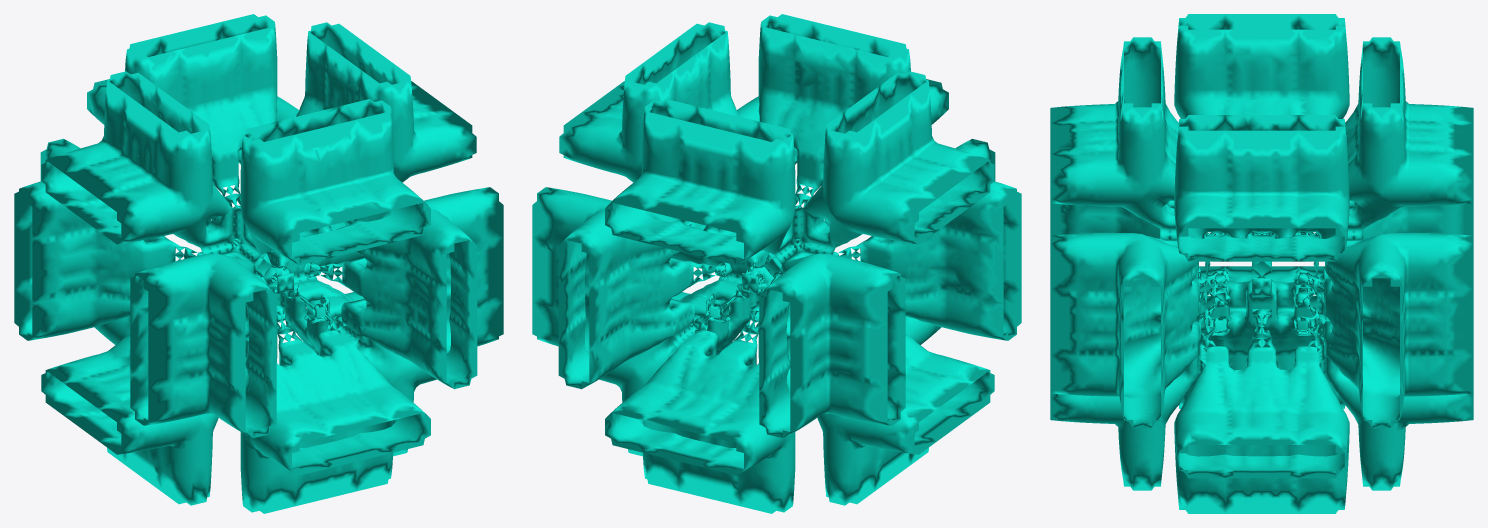
Rendered from cuboctahedron_qubit.glb.
3 renders of one model, left to right at view 1: azimuth 30°, elevation 25°; view 2: azimuth 150°, elevation 25°; view 3: azimuth 270°, elevation 25°, orthographic. The views are drawn at different scales.
Parts seen in each view (by area): view 1: Object_4; view 2: Object_4; view 3: Object_4.
Part boxes in pixels (x1=…): Object_4: x1=14, y1=14, x2=503, y2=513; Object_4: x1=532, y1=14, x2=1021, y2=513; Object_4: x1=1050, y1=14, x2=1473, y2=513.
Size of the model in its own units: 4 by 4 by 4.
